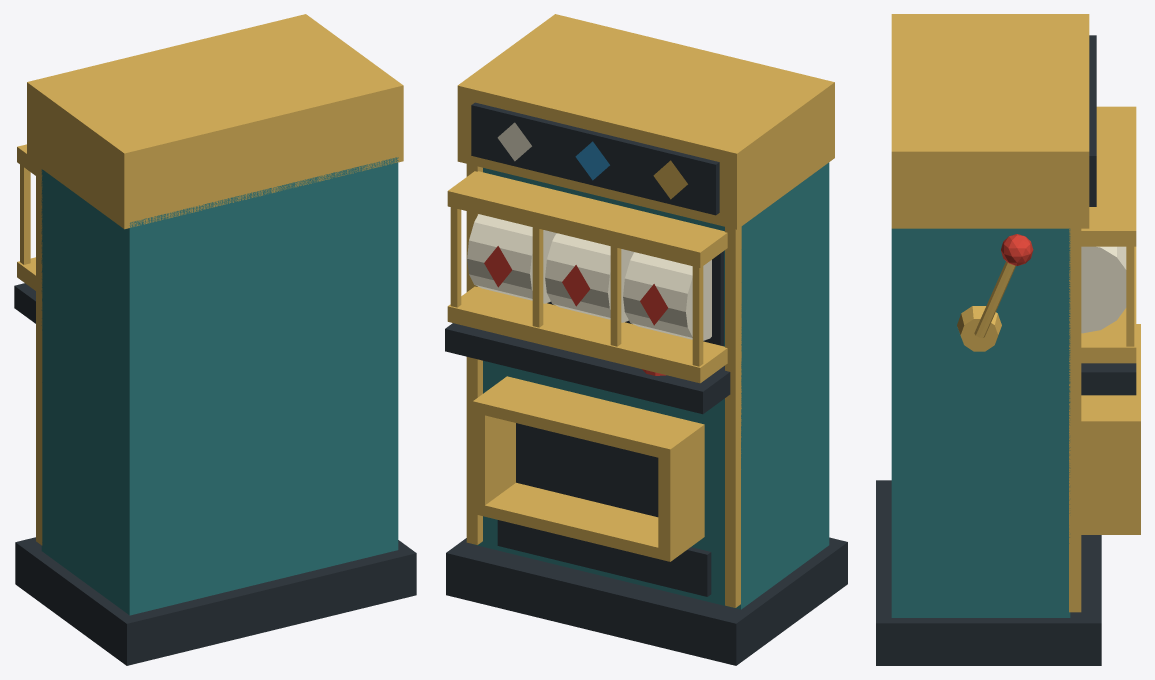
Rendered from SlotMachine.fbx.
The picture shows the model from 3 angles, left to right: view 1: azimuth 30°, elevation 25°; view 2: azimuth 150°, elevation 25°; view 3: azimuth 270°, elevation 25°; orthographic projection.
Parts seen in each view (by area): view 1: Cabinet, Marquee, Base, CornerTrim.001, ReelDivider.003, ControlShelf; view 2: Cabinet, Marquee, Base, RewardPanel, ReelFrame.001, ReelFrame, IntakeLip.001, ControlShelf, IntakeBack, IntakeLip, LowerPanel, CornerTrim.001 (+17 smaller); view 3: Cabinet, Marquee, Base, ReelFrame.001, IntakeSide, CornerTrim, Roller0, IntakeLip.001, ReelFrame, ControlShelf, RewardPanel, LeverMount (+4 smaller).
Boxes of the visible parts, x1=… form: Cabinet: x1=41, y1=157, x2=398, y2=615; Marquee: x1=27, y1=14, x2=403, y2=229; Base: x1=15, y1=537, x2=416, y2=665; CornerTrim.001: x1=36, y1=165, x2=42, y2=545; ReelDivider.003: x1=20, y1=164, x2=30, y2=264; ControlShelf: x1=14, y1=283, x2=35, y2=323; Cabinet: x1=472, y1=162, x2=829, y2=609; Marquee: x1=457, y1=14, x2=834, y2=229; Base: x1=446, y1=537, x2=847, y2=665; RewardPanel: x1=471, y1=102, x2=719, y2=215; ReelFrame.001: x1=447, y1=171, x2=727, y2=267; ReelFrame: x1=447, y1=286, x2=727, y2=383; IntakeLip.001: x1=473, y1=376, x2=704, y2=460; ControlShelf: x1=445, y1=323, x2=730, y2=414; IntakeBack: x1=516, y1=423, x2=658, y2=517; IntakeLip: x1=473, y1=482, x2=704, y2=561; LowerPanel: x1=497, y1=520, x2=711, y2=596; CornerTrim.001: x1=725, y1=226, x2=741, y2=607; Cabinet: x1=891, y1=228, x2=1070, y2=617; Marquee: x1=891, y1=14, x2=1089, y2=228; Base: x1=876, y1=480, x2=1101, y2=665; ReelFrame.001: x1=1081, y1=106, x2=1136, y2=246; IntakeSide: x1=1081, y1=427, x2=1140, y2=523; CornerTrim: x1=1069, y1=228, x2=1081, y2=612; Roller0: x1=1081, y1=246, x2=1126, y2=333; IntakeLip.001: x1=1081, y1=324, x2=1140, y2=430; ReelFrame: x1=1081, y1=246, x2=1136, y2=363; ControlShelf: x1=1081, y1=363, x2=1136, y2=395; RewardPanel: x1=1089, y1=35, x2=1096, y2=206; LeverMount: x1=957, y1=306, x2=1001, y2=351.
Size of the model in its own units: 1.16 by 1.8 by 0.845.
